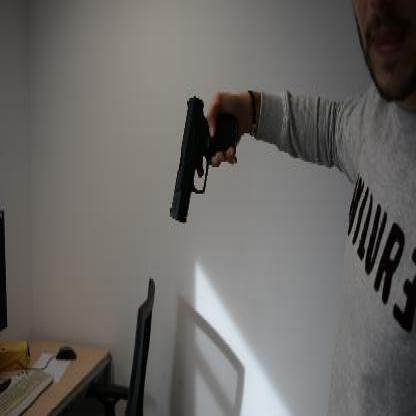pistol: (169, 94, 239, 222)
